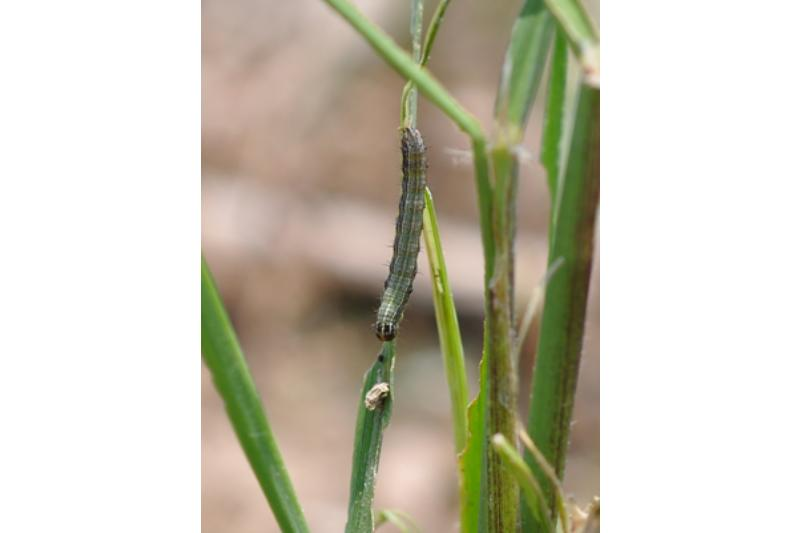fall-armyworm: (374, 125, 426, 347)
